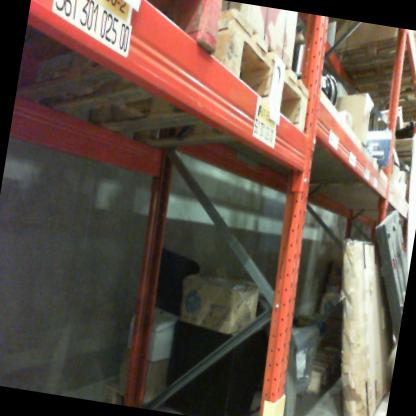pallet: (11, 0, 328, 198), (16, 0, 228, 137), (311, 18, 416, 115), (101, 360, 267, 416), (355, 203, 416, 354), (273, 325, 351, 397)
